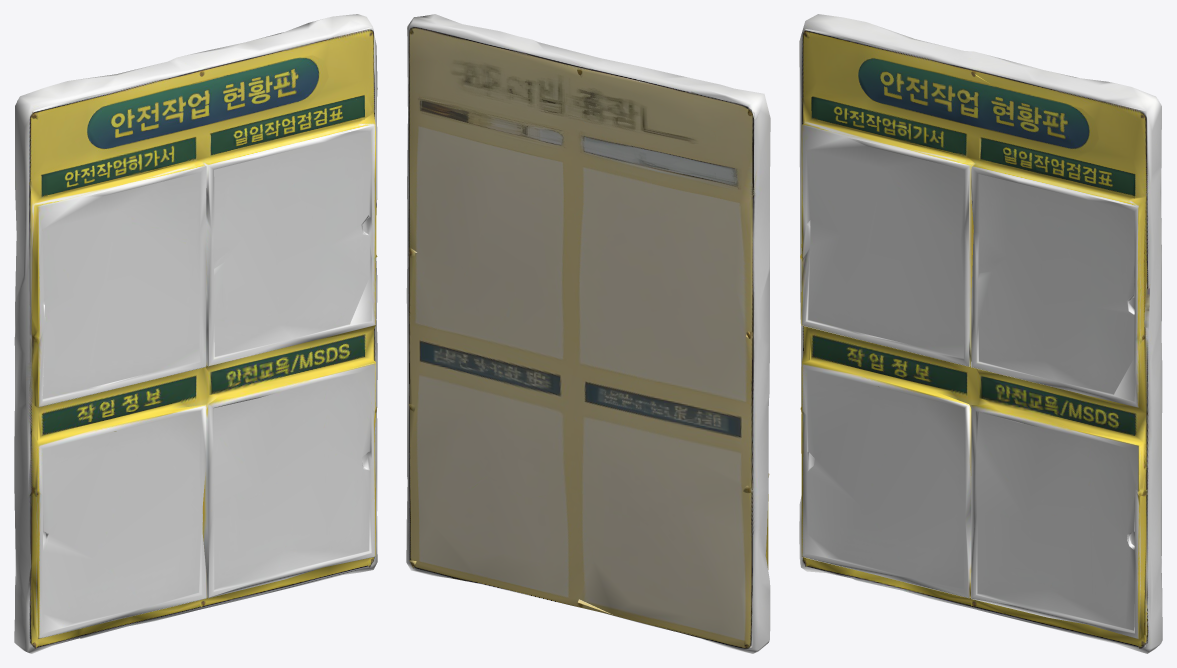
The model's file is safety_bulletin_board_3d_model.fbx.
3 views of the same model, side by side, from view 1: azimuth 30°, elevation 25°; view 2: azimuth 150°, elevation 25°; view 3: azimuth 330°, elevation 25° (orthographic).
Parts seen in each view (by area): view 1: tripo_node_04a225c0; view 2: tripo_node_04a225c0; view 3: tripo_node_04a225c0.
Boxes of the visible parts, left/top/right/bottom form: tripo_node_04a225c0: left=14, top=14, right=377, bottom=653; tripo_node_04a225c0: left=406, top=14, right=770, bottom=653; tripo_node_04a225c0: left=799, top=14, right=1162, bottom=653.
Size of the model in its own units: 0.6562 by 0.9803 by 0.0676.
